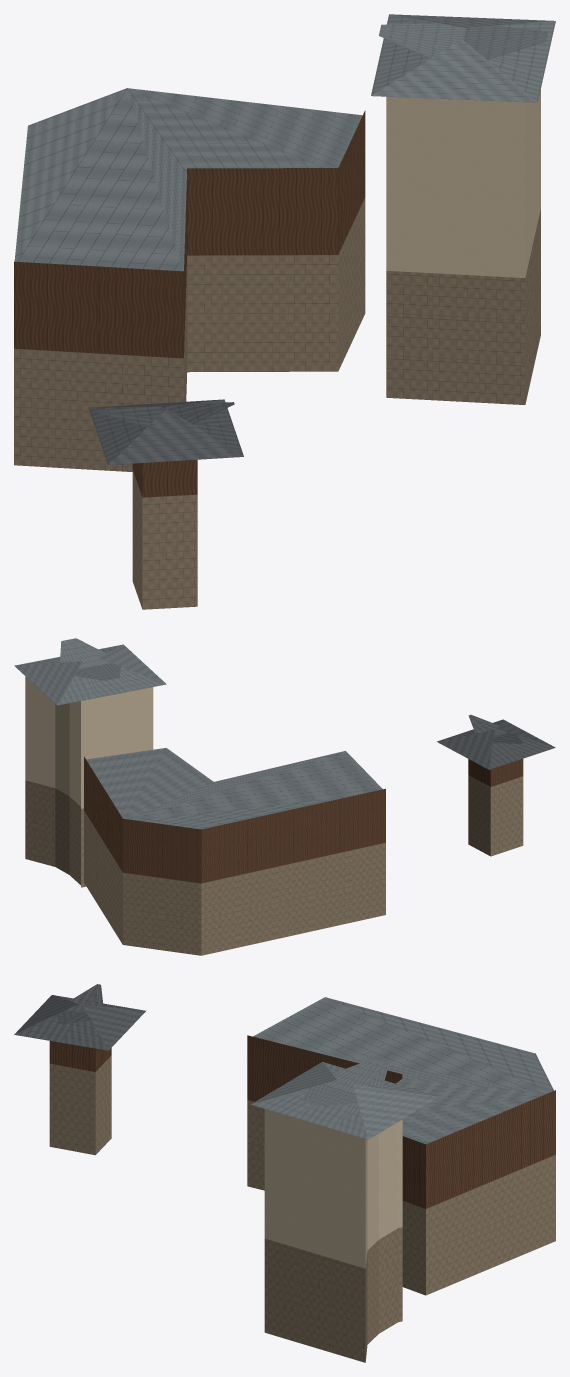
Rendered from bld_c-11_35_462.gltf.
The picture shows the model from 3 angles, top to bottom: view 1: azimuth 30°, elevation 25°; view 2: azimuth 150°, elevation 25°; view 3: azimuth 270°, elevation 25°; orthographic projection. The views are drawn at different scales.
Visible parts, largest first — view 1: bld_c-11_35_462; view 2: bld_c-11_35_462; view 3: bld_c-11_35_462.
Part boxes in pixels (x1,y1,x2,y2): bld_c-11_35_462: [14, 14, 555, 609]; bld_c-11_35_462: [14, 638, 555, 955]; bld_c-11_35_462: [14, 984, 555, 1362].
Bounding box in the file's own units: 27.78 × 13.4 × 26.59.
Materials: 6 (6 with a texture image).
